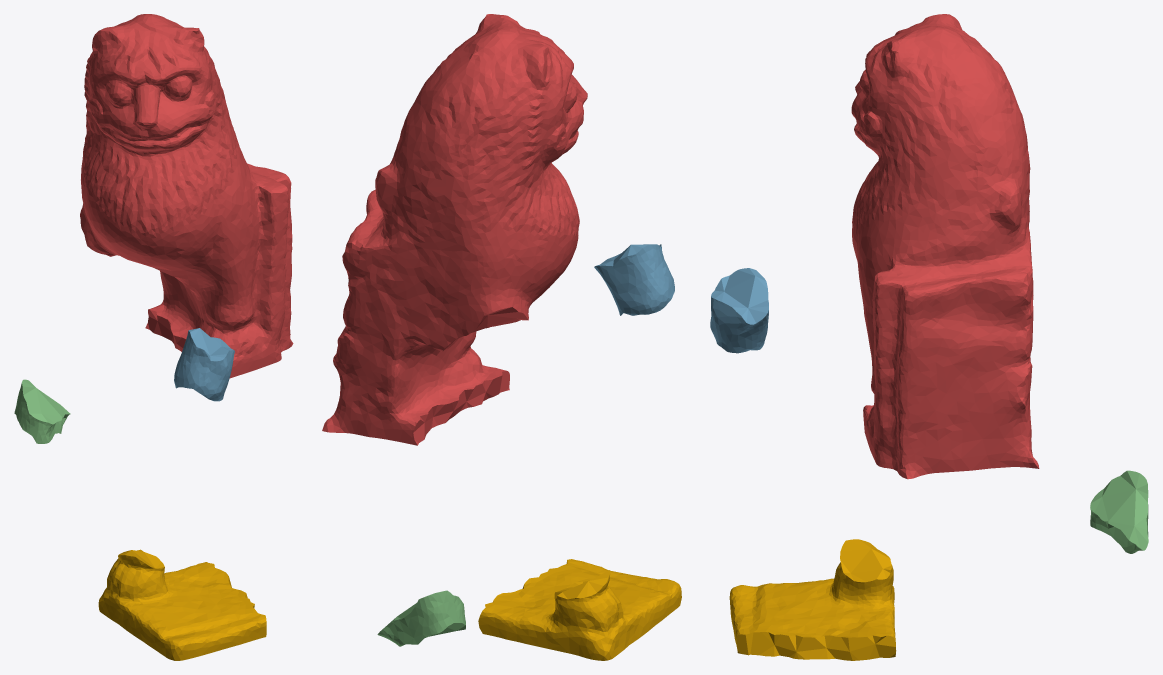
Rendered from fractured_69_4pcs_transformed.glb.
3 renders of one model, left to right at view 1: azimuth 30°, elevation 25°; view 2: azimuth 150°, elevation 25°; view 3: azimuth 270°, elevation 25°, orthographic. The views are drawn at different scales.
Parts seen in each view (by area): view 1: piece_1.obj, piece_0.obj, piece_2.obj, piece_3.obj; view 2: piece_1.obj, piece_0.obj, piece_2.obj, piece_3.obj; view 3: piece_1.obj, piece_0.obj, piece_2.obj, piece_3.obj.
Part boxes in pixels (<box>): piece_1.obj: <box>80,14,293,378</box>; piece_0.obj: <box>98,549,266,660</box>; piece_2.obj: <box>174,328,234,401</box>; piece_3.obj: <box>14,379,70,443</box>; piece_1.obj: <box>322,14,587,445</box>; piece_0.obj: <box>478,559,681,660</box>; piece_2.obj: <box>594,244,674,315</box>; piece_3.obj: <box>377,590,465,646</box>; piece_1.obj: <box>851,14,1039,479</box>; piece_0.obj: <box>729,539,896,660</box>; piece_2.obj: <box>710,268,768,353</box>; piece_3.obj: <box>1090,470,1148,553</box>.
Bounding box in the file's own units: 0.6128 × 1.6 × 1.04.
